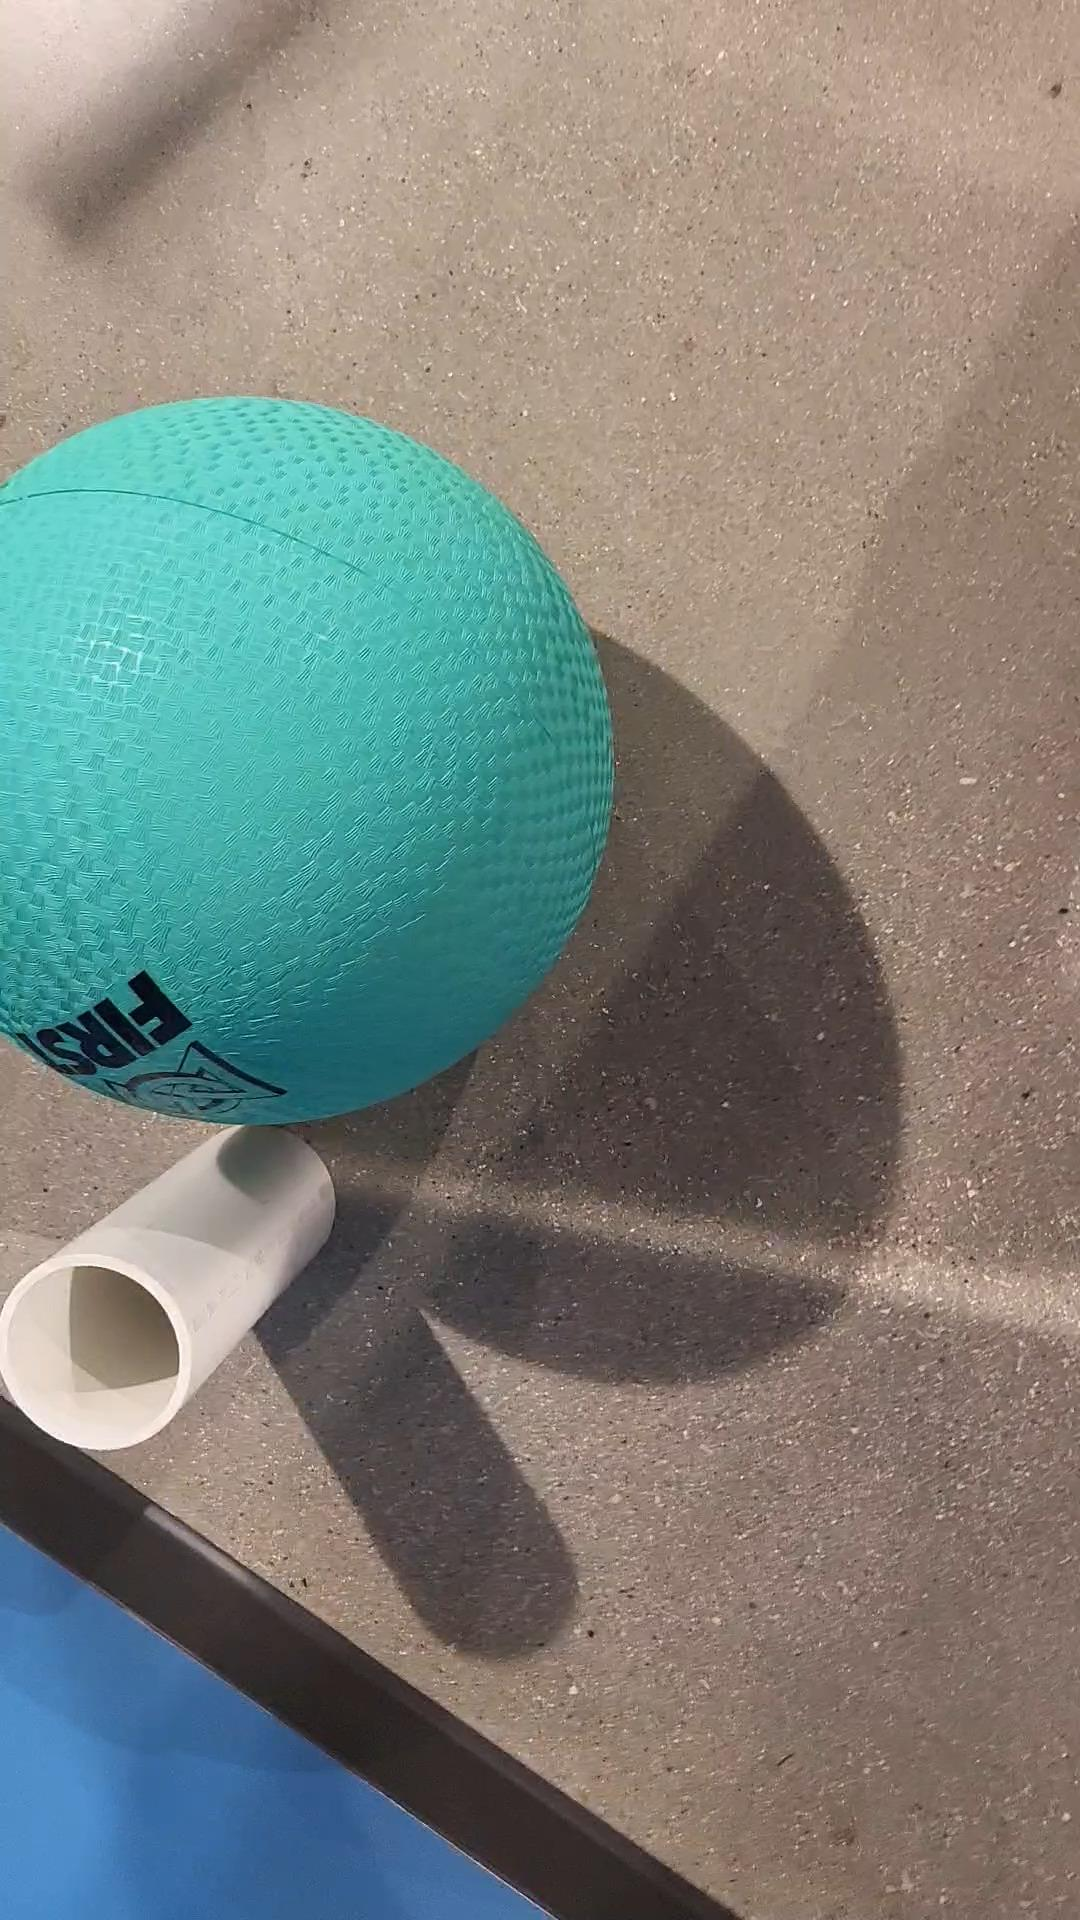algae: (0, 402, 620, 1130)
coral: (0, 1130, 330, 1451)
